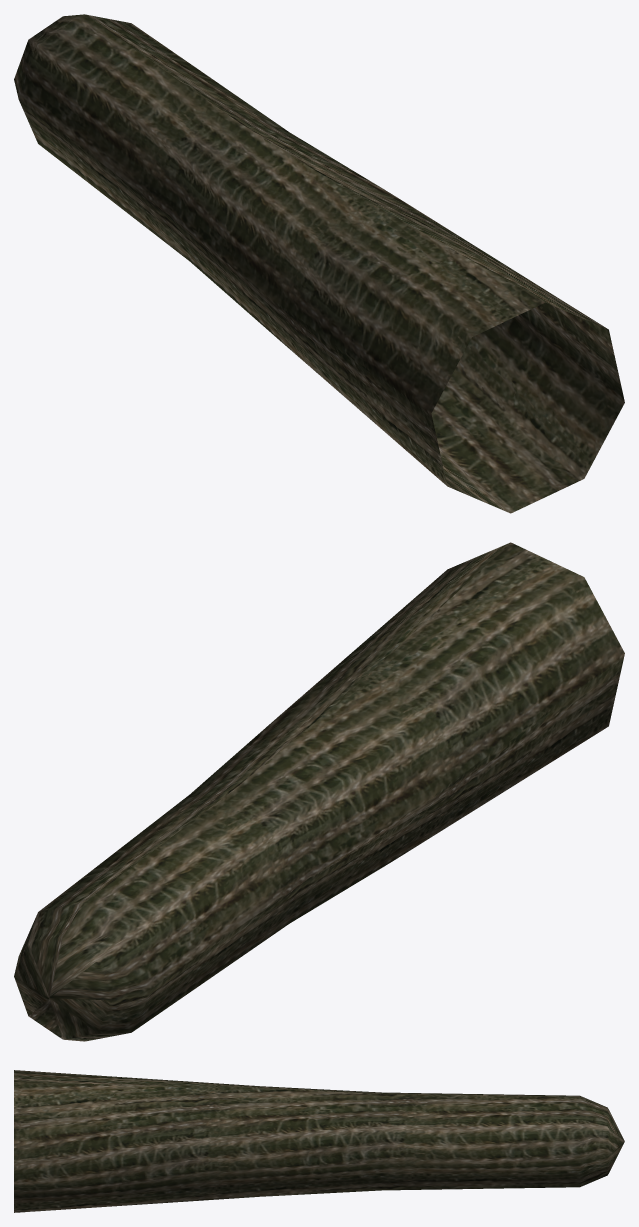
Rendered from MEP_Cactus_h_06.fbx.
3 renders of one model, top to bottom at view 1: azimuth 30°, elevation 25°; view 2: azimuth 150°, elevation 25°; view 3: azimuth 270°, elevation 25°, orthographic. The views are drawn at different scales.
Parts seen in each view (by area): view 1: MEP_Cactus_h_06; view 2: MEP_Cactus_h_06; view 3: MEP_Cactus_h_06.
Part boxes in pixels (left/top/right/bottom): MEP_Cactus_h_06: left=14, top=14, right=624, bottom=513; MEP_Cactus_h_06: left=14, top=542, right=624, bottom=1041; MEP_Cactus_h_06: left=14, top=1070, right=624, bottom=1212.
Size of the model in its own units: 1.03 by 1.03 by 4.41.
Materials: 1 (1 with a texture image).
